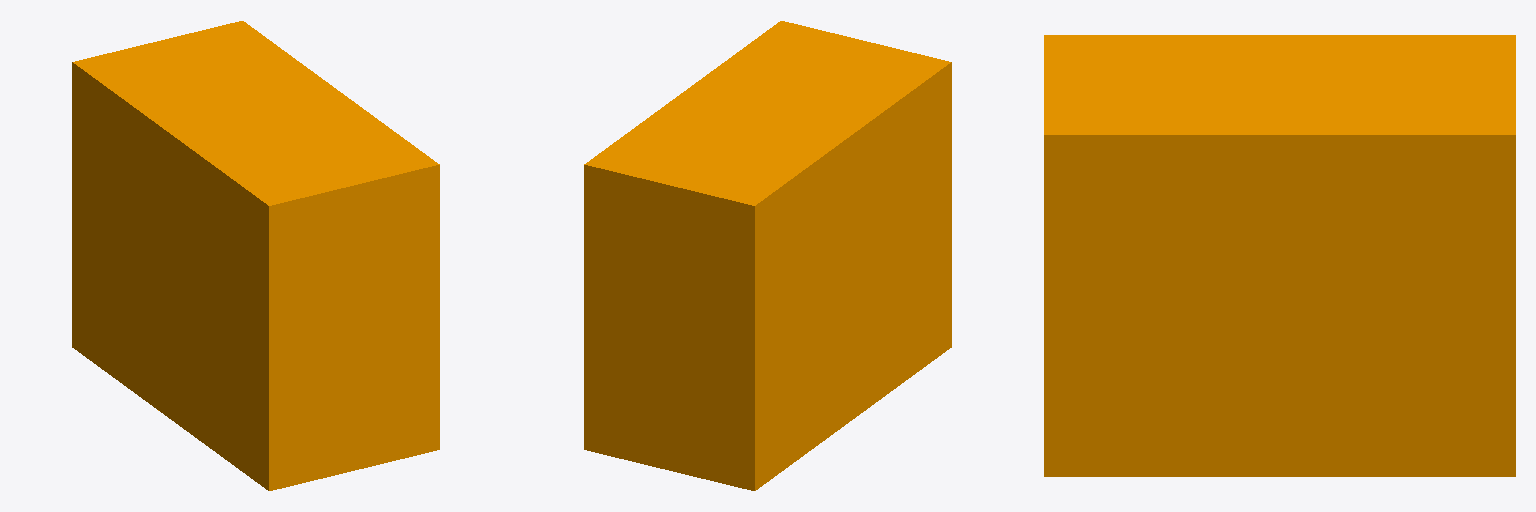
robot.urdf — ball:
<?xml version="0.0" ?>
<robot name="ball">
    <link name="wall">
        <contact>
            <lateral_friction value="1"/>
        </contact>

        <inertial>
            <origin xyz="0 0 0" rpy="0 0 0"/>
            <mass value="0.0"/>
            <inertia ixx="0"  ixy="0"  ixz="0" iyy="0" iyz="0" izz="0" />
        </inertial>

        <visual>
            <origin xyz="0 0 0" rpy="0 0 0" />
            <geometry>
                <box size="0.5 1.0 0.8" />
            </geometry>
            <material name="Orange">
                <color rgba="1.0 0.65 0.0 1.0"/>
            </material>
        </visual>

        <collision>
            <origin xyz="0 0 0" rpy="0 0 0"/>
            <geometry>
                <box size="0.5 1.0 0.8" />
            </geometry>
        </collision>
    </link>
</robot>

--- Facts derived from the render (not from the file) ---
3 views of the same robot in one strip: view 1: azimuth 30°, elevation 25°; view 2: azimuth 150°, elevation 25°; view 3: azimuth 270°, elevation 25° (orthographic).
Robot: ball — 1 links, 0 joints (none); root link wall; default pose: all joints at 0.
Links seen in each view (by area): view 1: wall; view 2: wall; view 3: wall.
Boxes of the visible links, box(x1,y1,x2,y2) form: wall: box(72, 21, 439, 490); wall: box(584, 21, 951, 490); wall: box(1044, 35, 1515, 476).
Bounding box of the posed robot: 0.5 × 1 × 0.8 m (x, y, z).
Geometry: primitives only (box / cylinder / sphere), no mesh files.